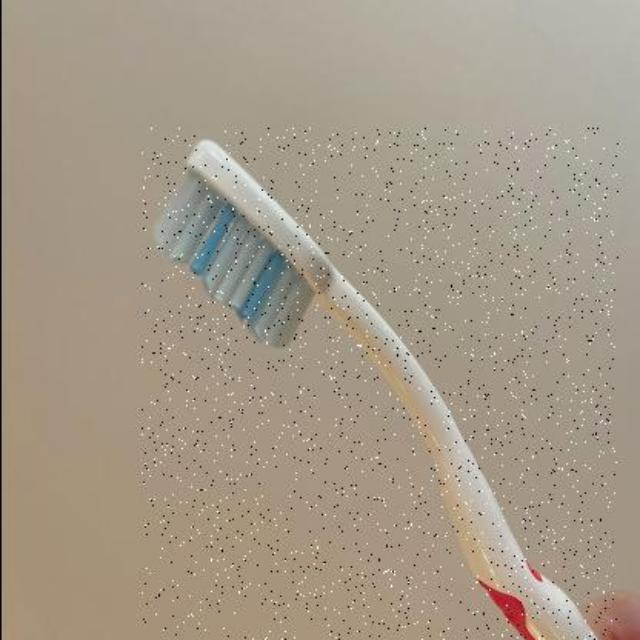toothbrush: (140, 128, 616, 640)
